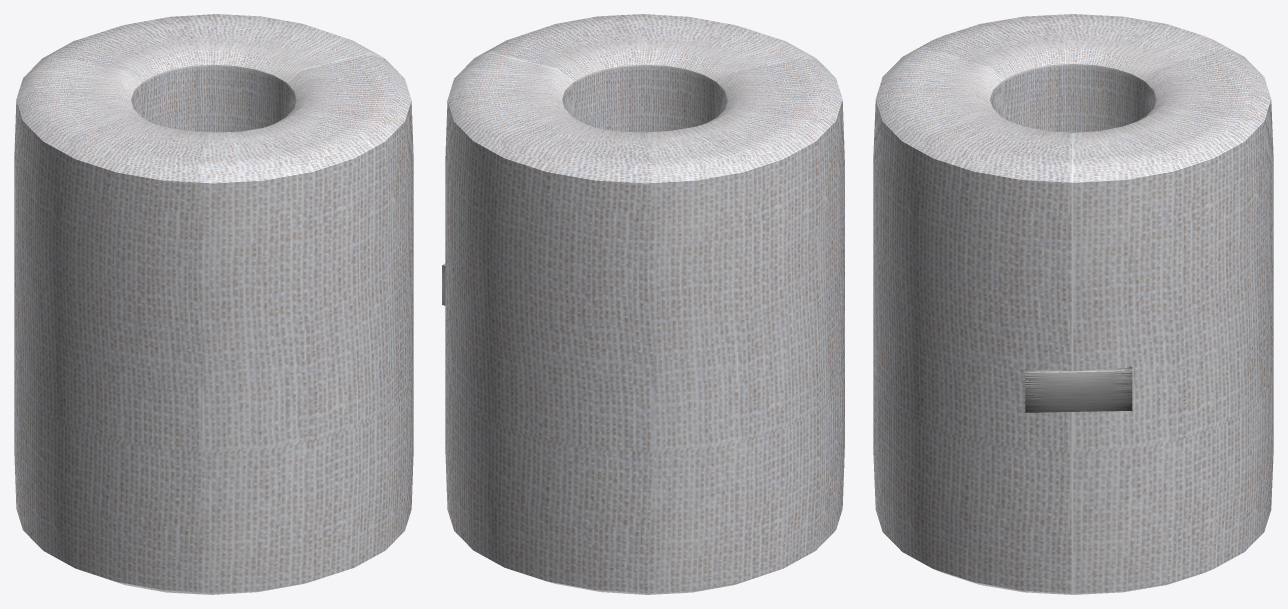
The model's file is bandage50.fbx.
3 views of the same model, side by side, from view 1: azimuth 30°, elevation 25°; view 2: azimuth 150°, elevation 25°; view 3: azimuth 270°, elevation 25° (orthographic).
Parts seen in each view (by area): view 1: Tube001; view 2: Tube001; view 3: Tube001.
Part boxes in pixels (x1,y1,x2,y2): Tube001: (14, 14, 413, 594); Tube001: (442, 14, 844, 594); Tube001: (873, 14, 1273, 594).
Bounding box in the file's own units: 30.49 × 35.73 × 30.29.
Materials: 2 (2 with a texture image).
